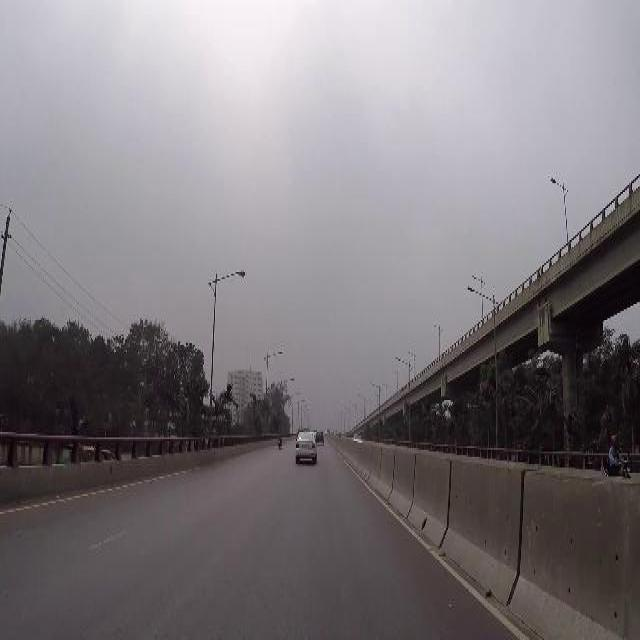car: (296, 430, 316, 462), (316, 431, 324, 444), (353, 432, 361, 439)
motorbike: (600, 461, 632, 478), (276, 432, 282, 446)
